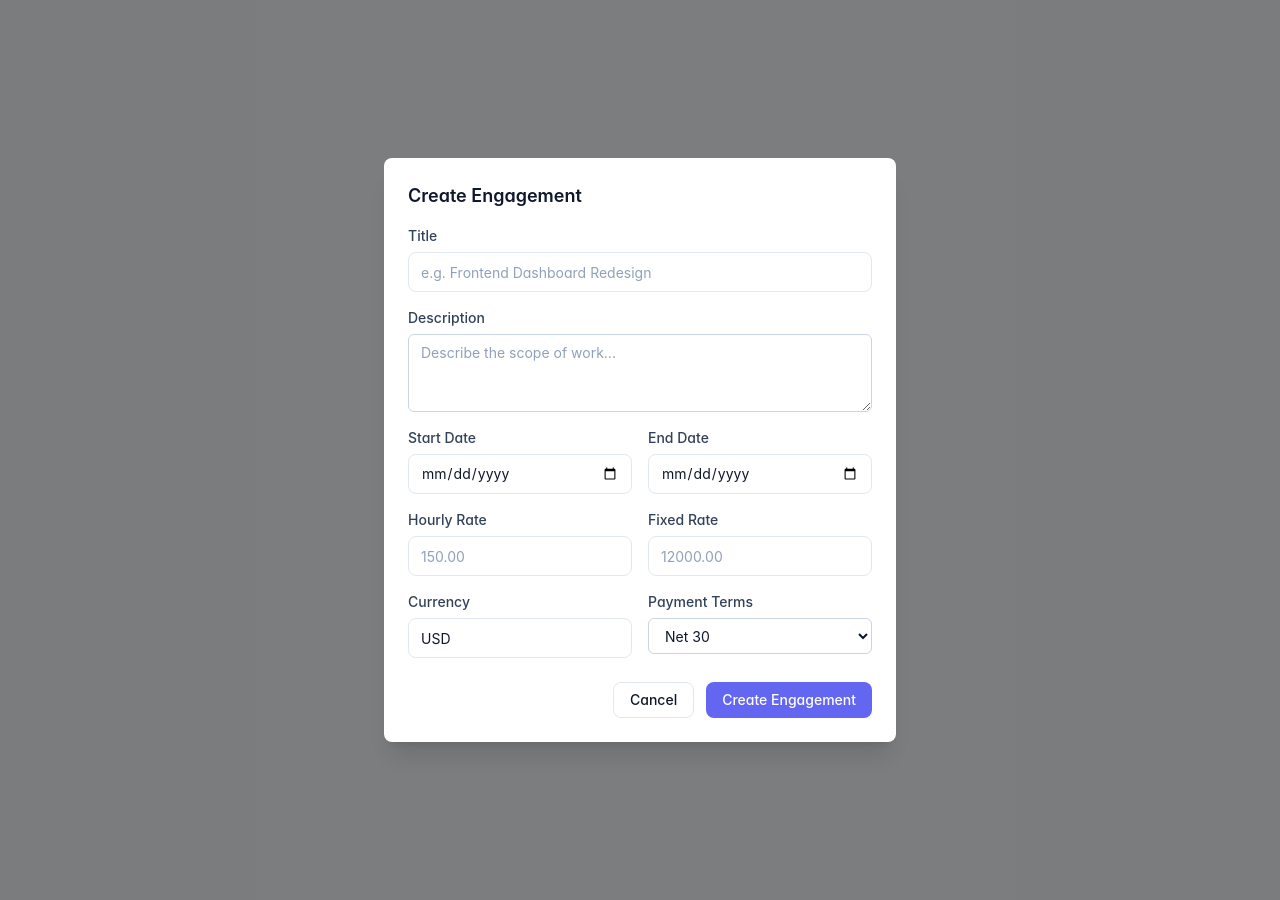
Test: EngagementForm › renders the api error message when the post fails
Type "Q3 Engagement" into the field labelled "Title".
click(640, 272); type("Q3 Engagement")  # box [408,252,872,292]
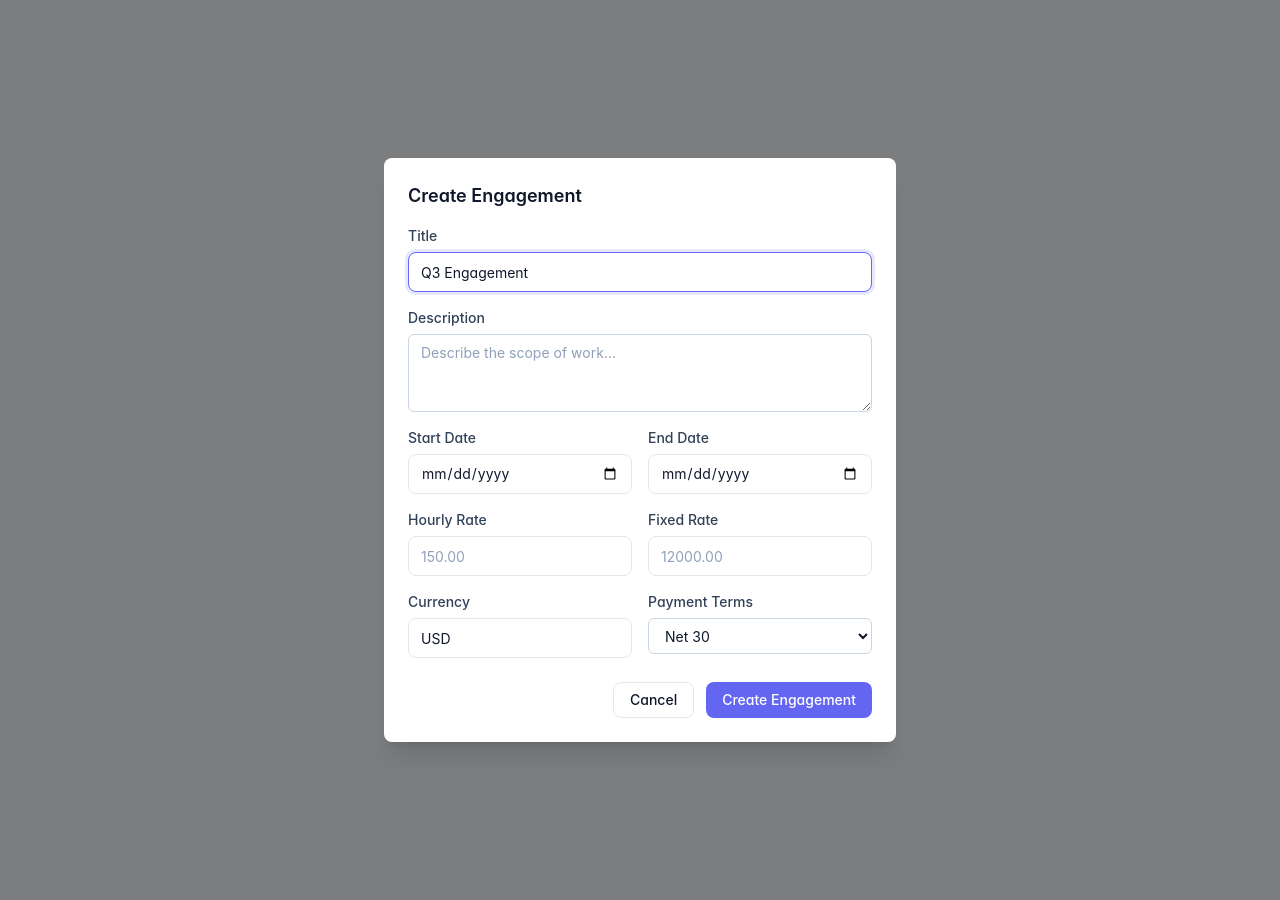
Type "2026-07-01" into the date field labelled "Start Date".
click(520, 474); type("2026-07-01")  # box [408,454,632,494]
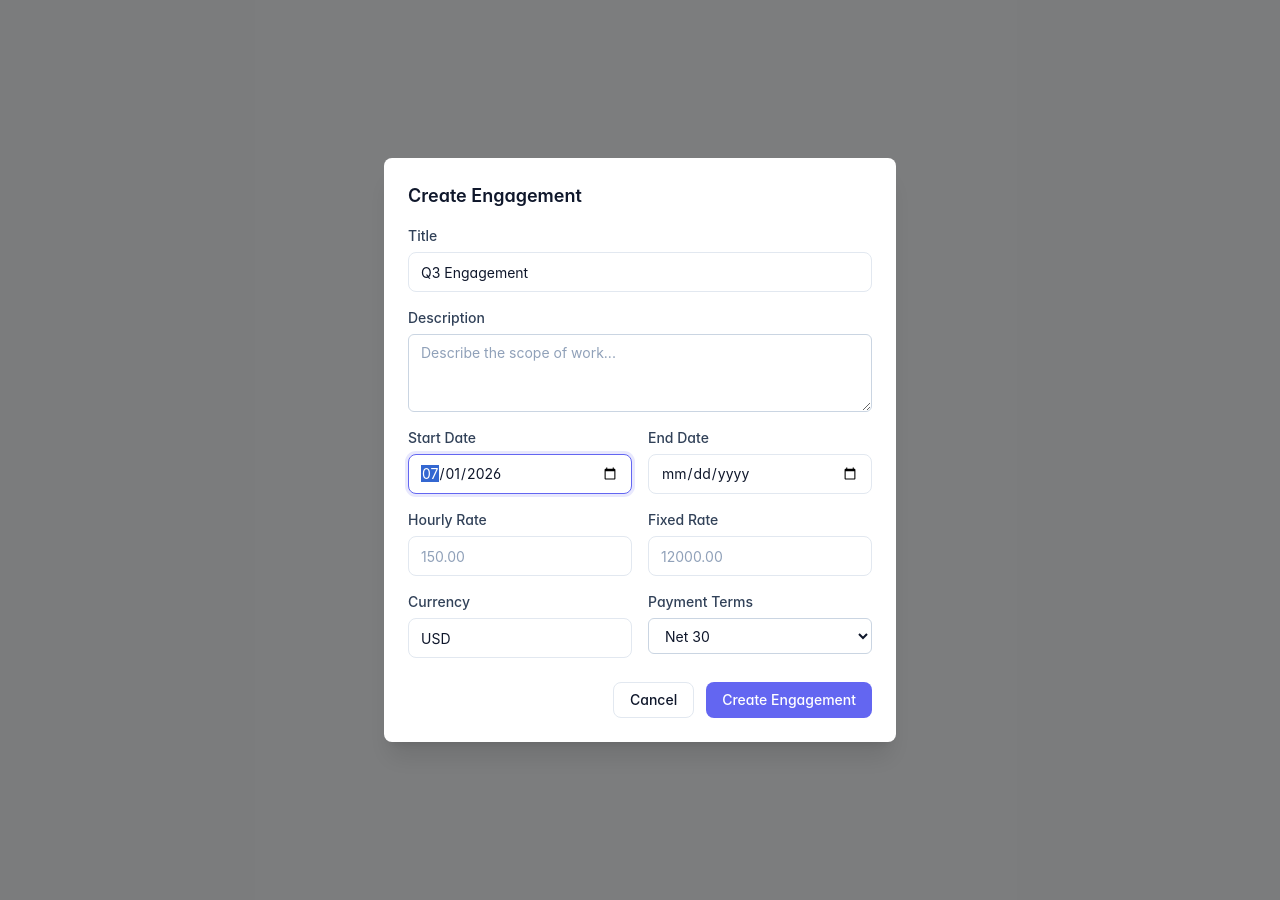
Type "125" into the number field labelled "Hourly Rate".
click(520, 556); type("125")  # box [408,536,632,576]
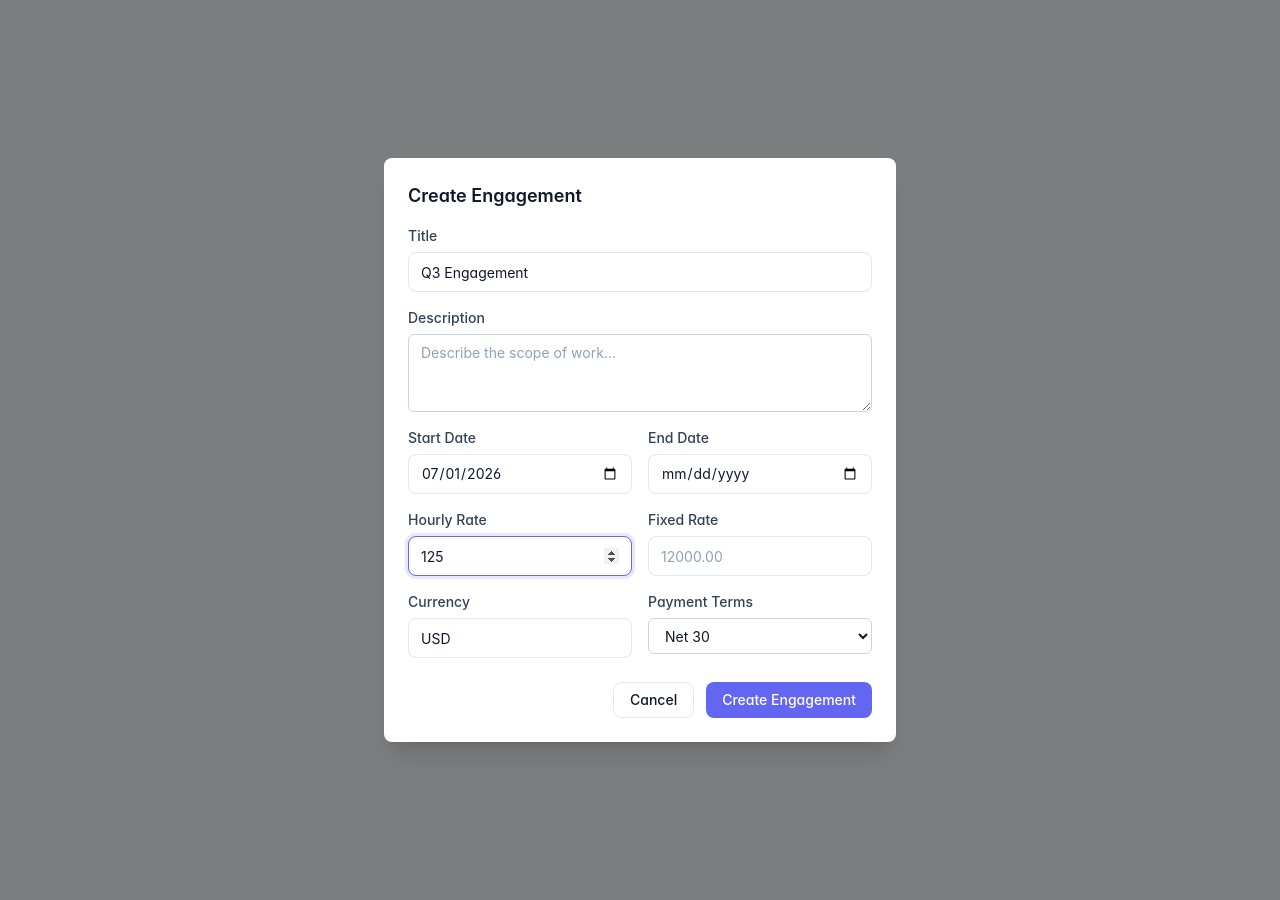
Click the button "Create Engagement".
click(789, 700)  # box [706,682,872,718]
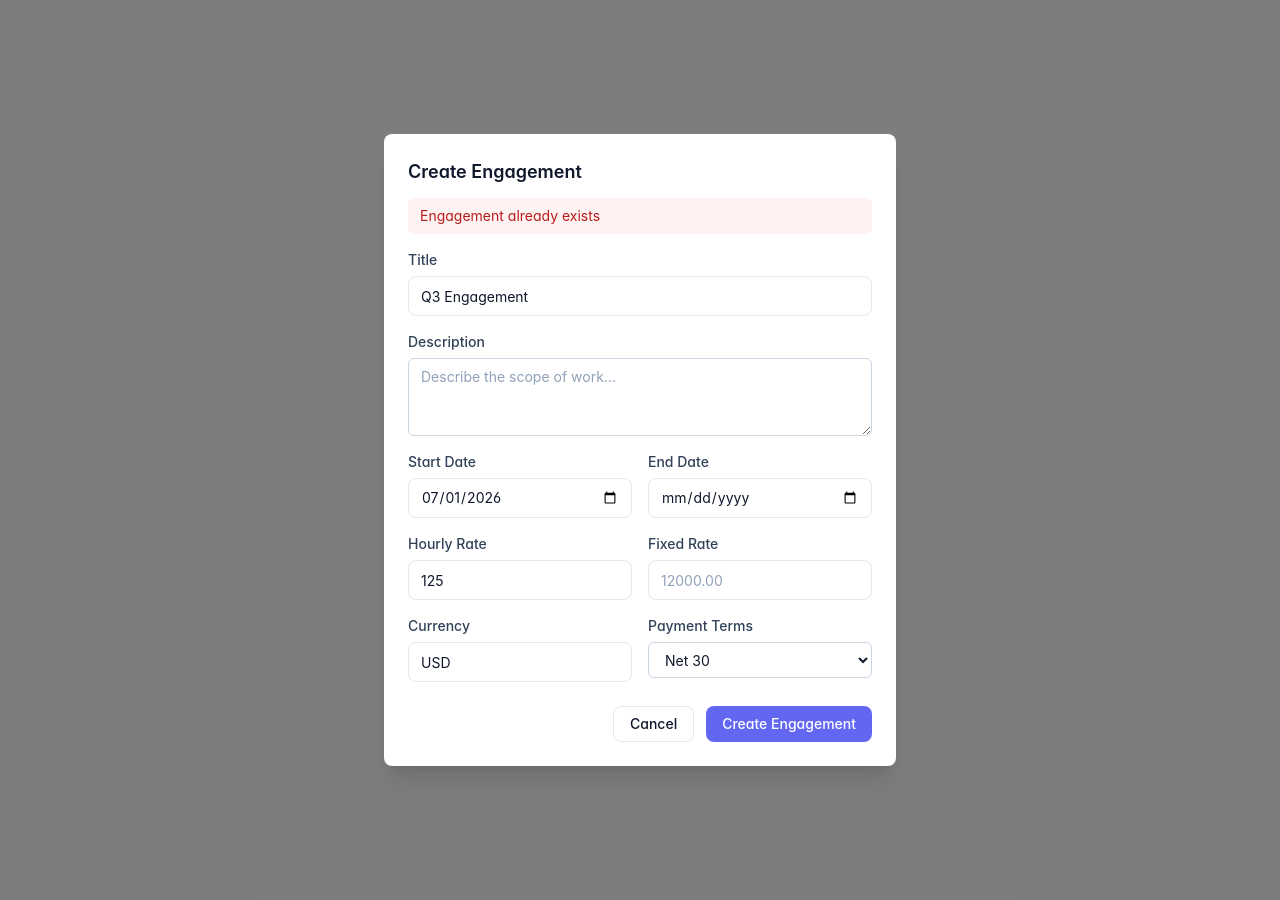
Expected: the text "Engagement already exists" is shown, [408,198,872,234]
